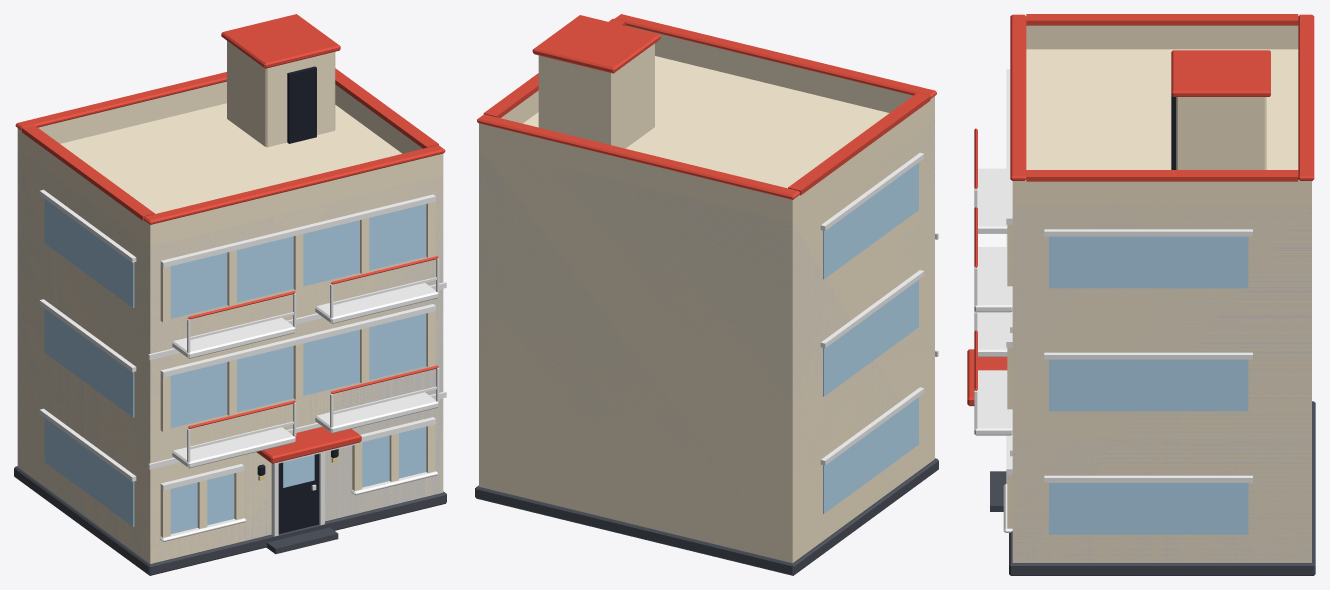
File: apartment-block.glb
3 views of the same model, side by side, from view 1: azimuth 30°, elevation 25°; view 2: azimuth 150°, elevation 25°; view 3: azimuth 270°, elevation 25° (orthographic). The views are drawn at different scales.
Parts seen in each view (by area): view 1: apartment-block, COL_body; view 2: apartment-block, COL_body; view 3: apartment-block, COL_body.
Part boxes in pixels (x1,y1,x2,y2): apartment-block: (14, 14, 446, 575); COL_body: (17, 152, 443, 562); apartment-block: (475, 14, 938, 575); COL_body: (479, 119, 934, 557); apartment-block: (967, 14, 1315, 575); COL_body: (1012, 205, 1311, 562).
Size of the model in its own units: 8.64 by 11.35 by 7.68.
